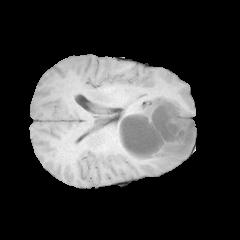glioma: (116, 97, 196, 164)
